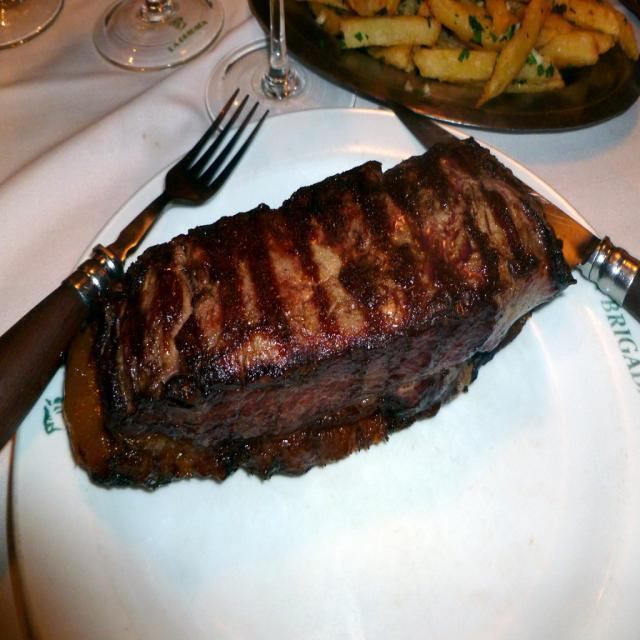French fries: (300, 12, 640, 106)
